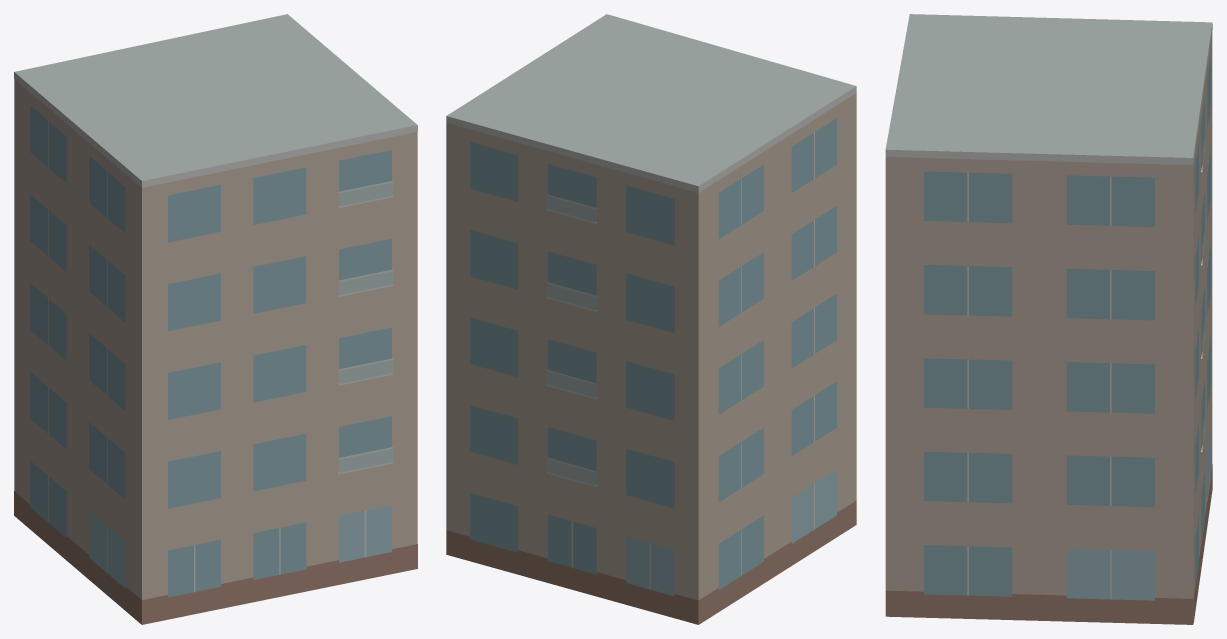
Rendered from survey-upis-32832781.glb.
The picture shows the model from 3 angles, left to right: view 1: azimuth 30°, elevation 25°; view 2: azimuth 150°, elevation 25°; view 3: azimuth 270°, elevation 25°; orthographic projection. The views are drawn at different scales.
Visible parts, largest first — view 1: survey-upis-32832781.tmp; view 2: survey-upis-32832781.tmp; view 3: survey-upis-32832781.tmp.
Boxes of the visible parts, x1,y1,x2,y2 form: survey-upis-32832781.tmp: [14, 14, 417, 624]; survey-upis-32832781.tmp: [446, 14, 856, 624]; survey-upis-32832781.tmp: [885, 14, 1212, 624].
Size of the model in its own units: 10.59 by 16 by 10.17.
